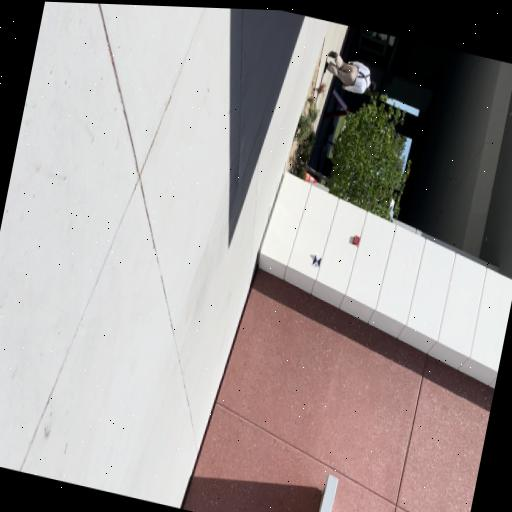target9: (312, 254, 322, 269)
